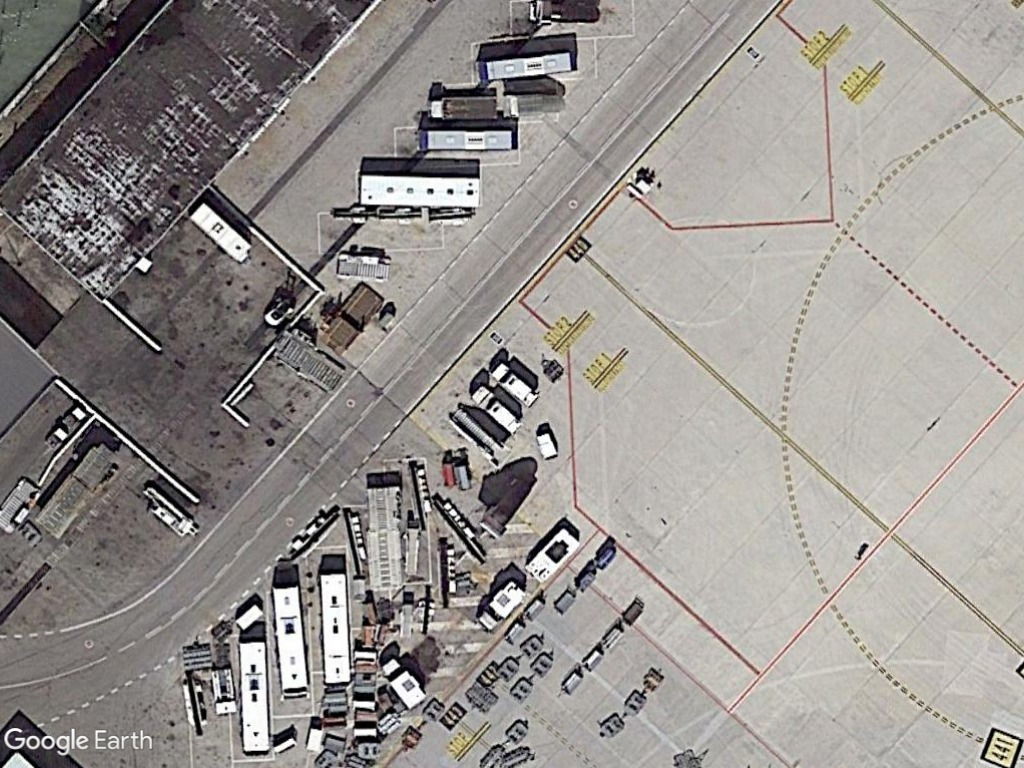bus: (270, 578, 312, 704), (352, 171, 486, 210), (235, 635, 274, 761), (316, 567, 354, 688), (475, 46, 579, 86), (411, 128, 518, 156)
other: (525, 524, 583, 585), (476, 576, 530, 632), (380, 655, 430, 707)
stairtruck: (447, 404, 514, 470)
